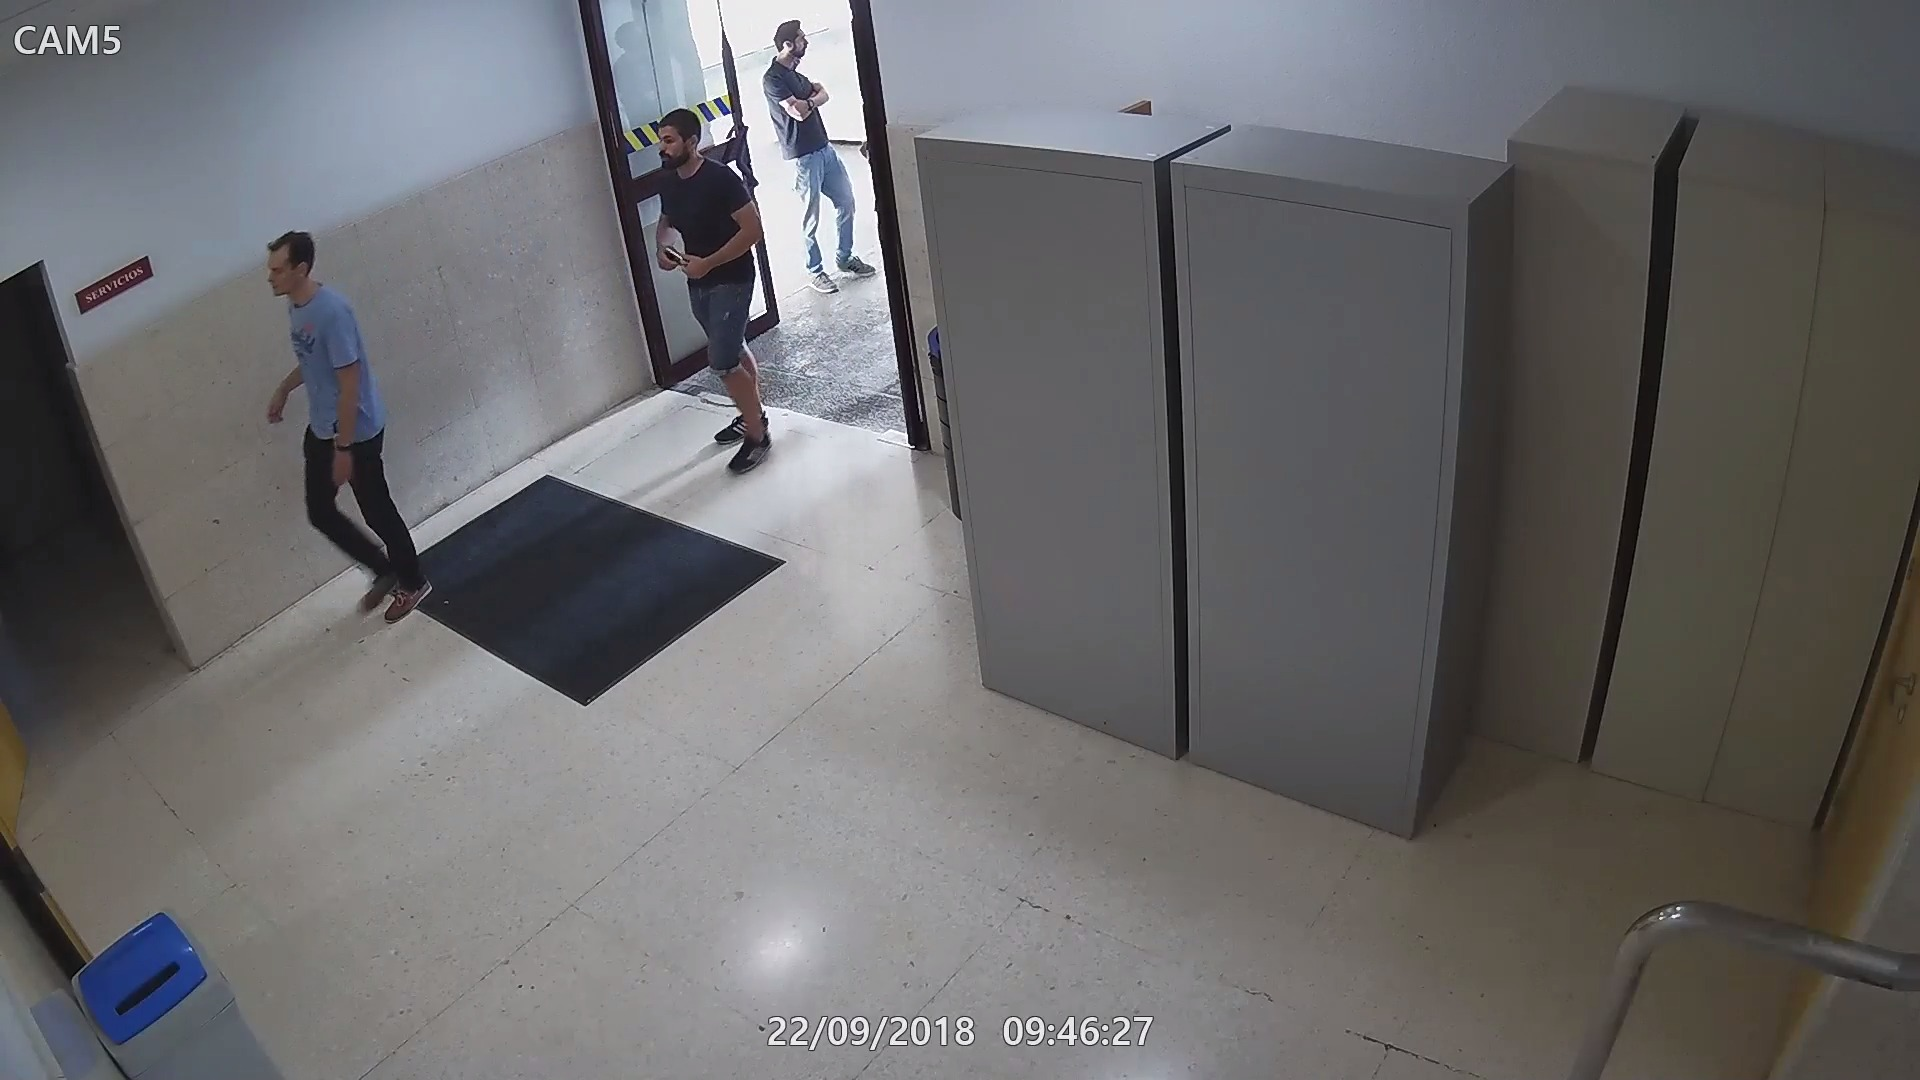Handgun: (655, 241, 696, 274)
